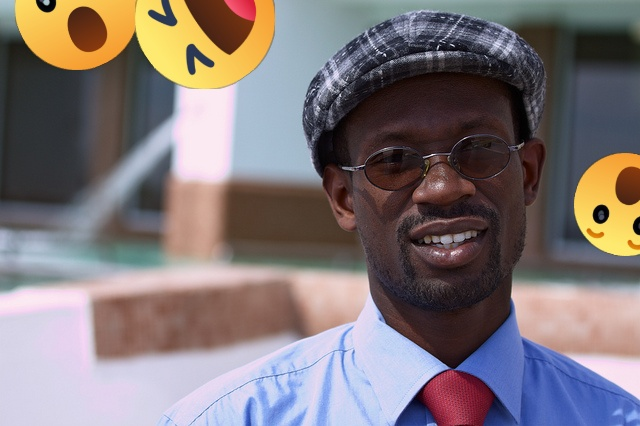haha: (135, 0, 275, 89)
wow: (15, 0, 139, 70), (574, 153, 640, 256)
